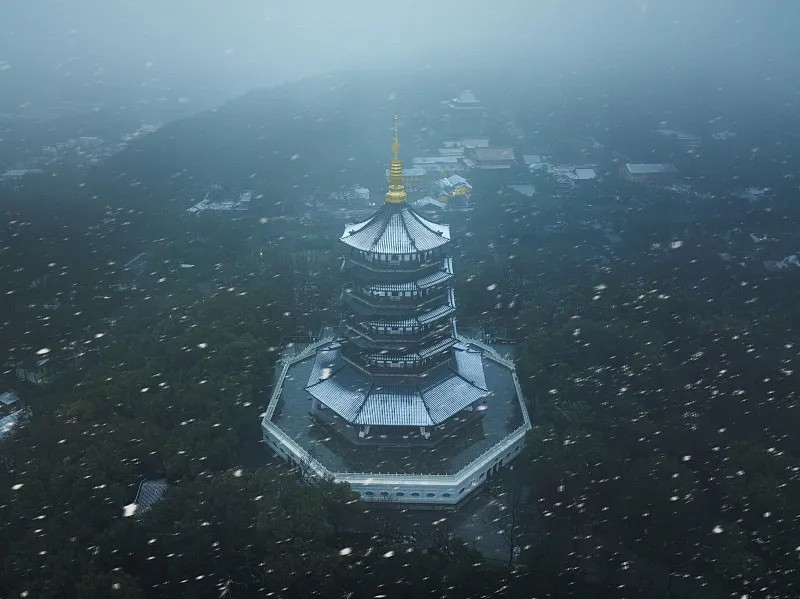Leifeng: (260, 114, 532, 509)
